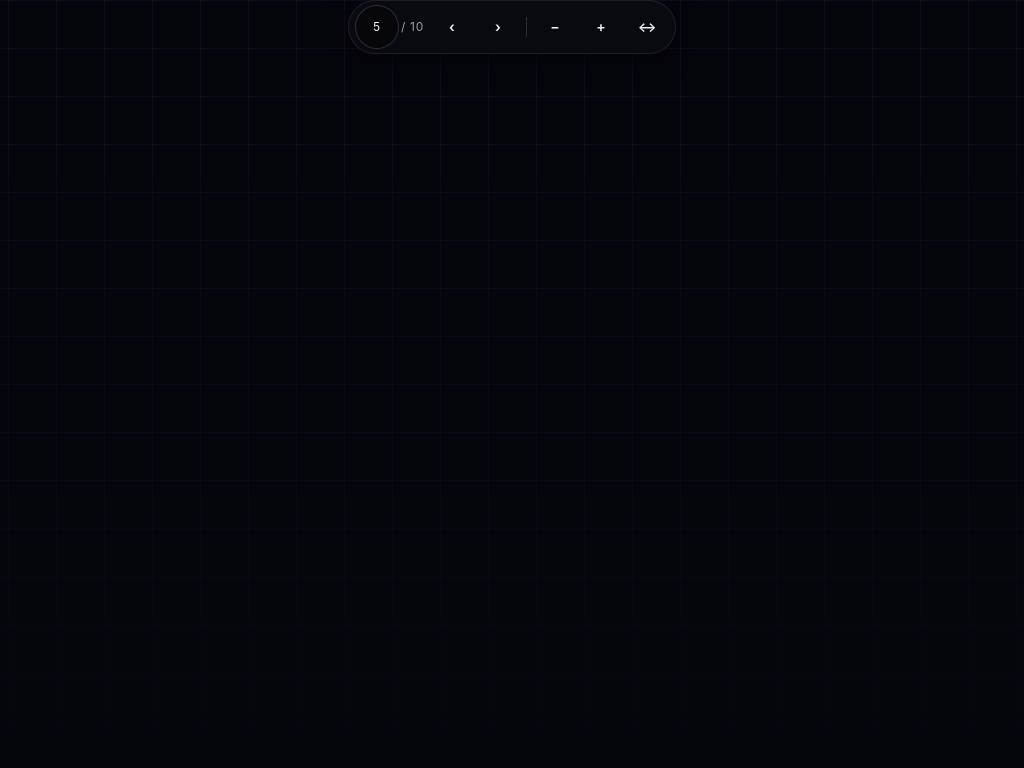
Test: ReaderControls page box and zoom › clamps a typed page to the document and keeps only digits
Replace the text in the field with test id "guide-page-input" with "99" at (377, 27), box [355, 5, 399, 49]
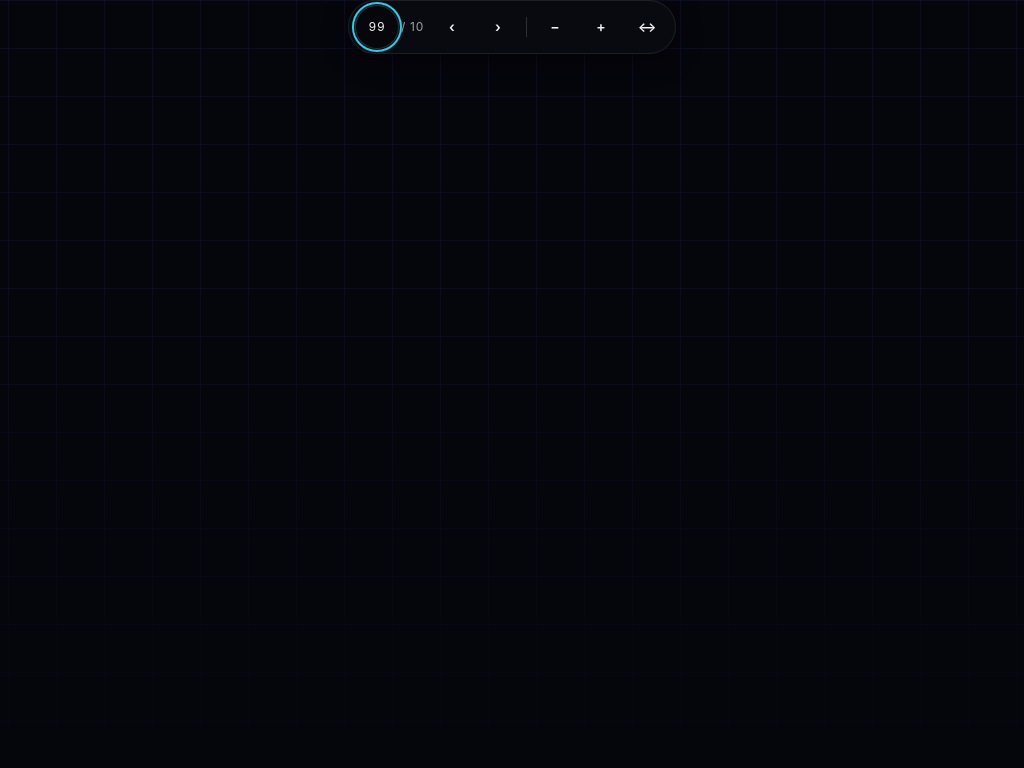
Press Enter in the field with test id "guide-page-input", box [355, 5, 399, 49]
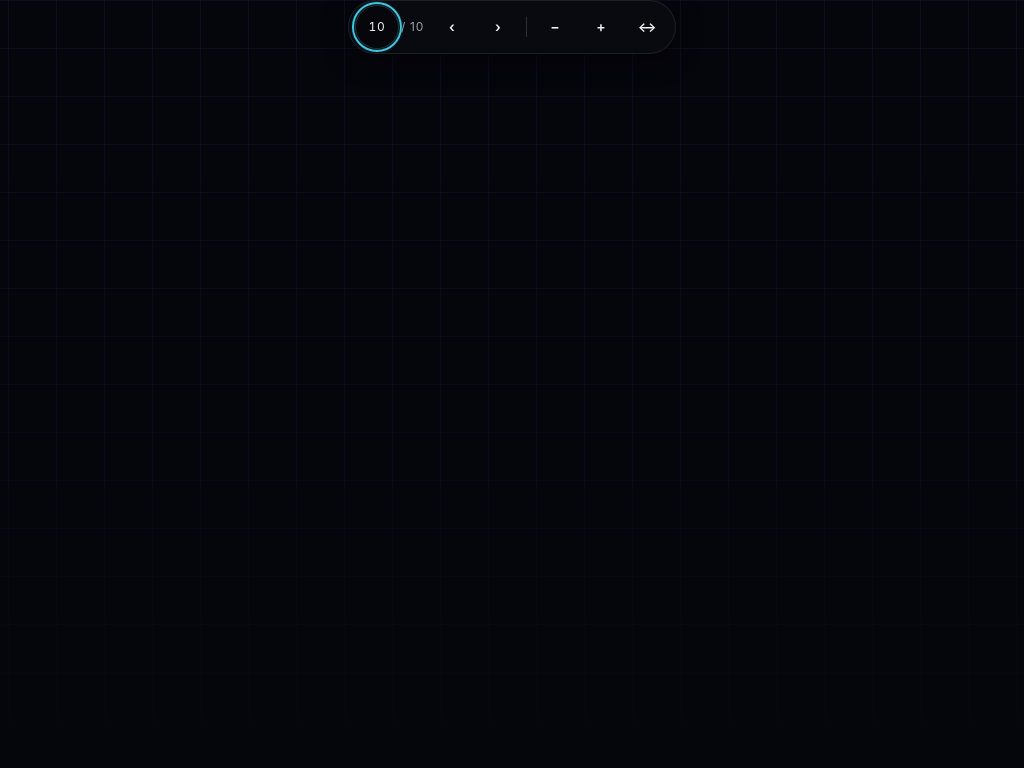
Check: the field with test id "guide-page-input" holds "10"
Replace the text in the field with test id "guide-page-input" with "0" at (377, 27), box [355, 5, 399, 49]
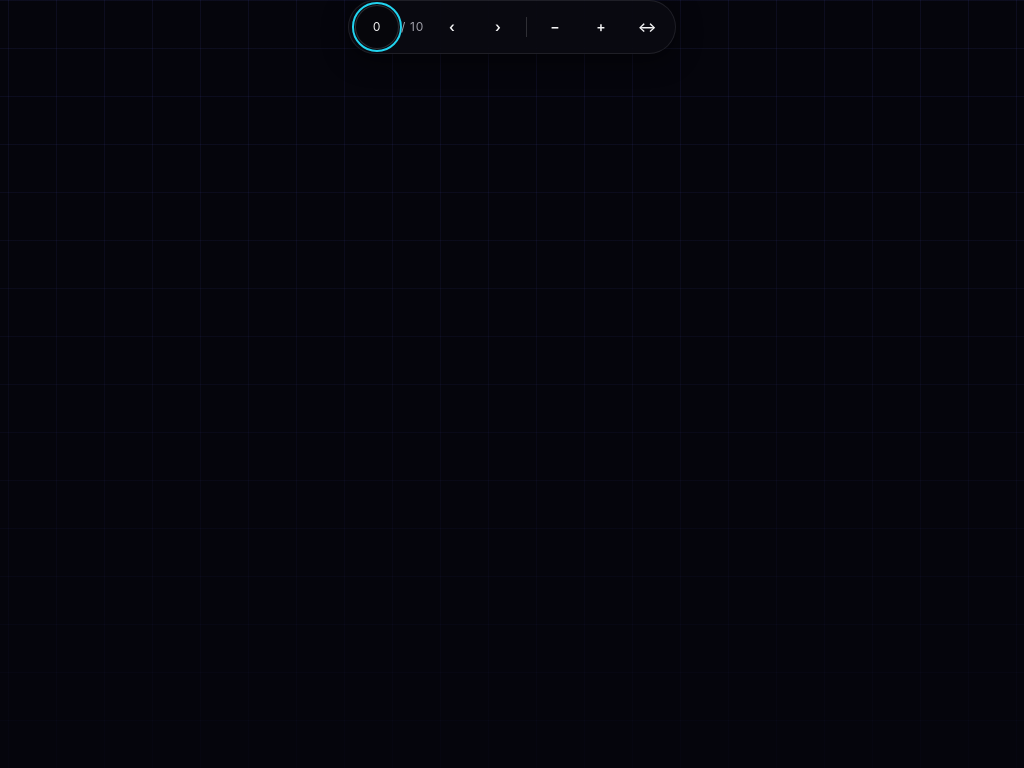
Press Enter in the field with test id "guide-page-input", box [355, 5, 399, 49]
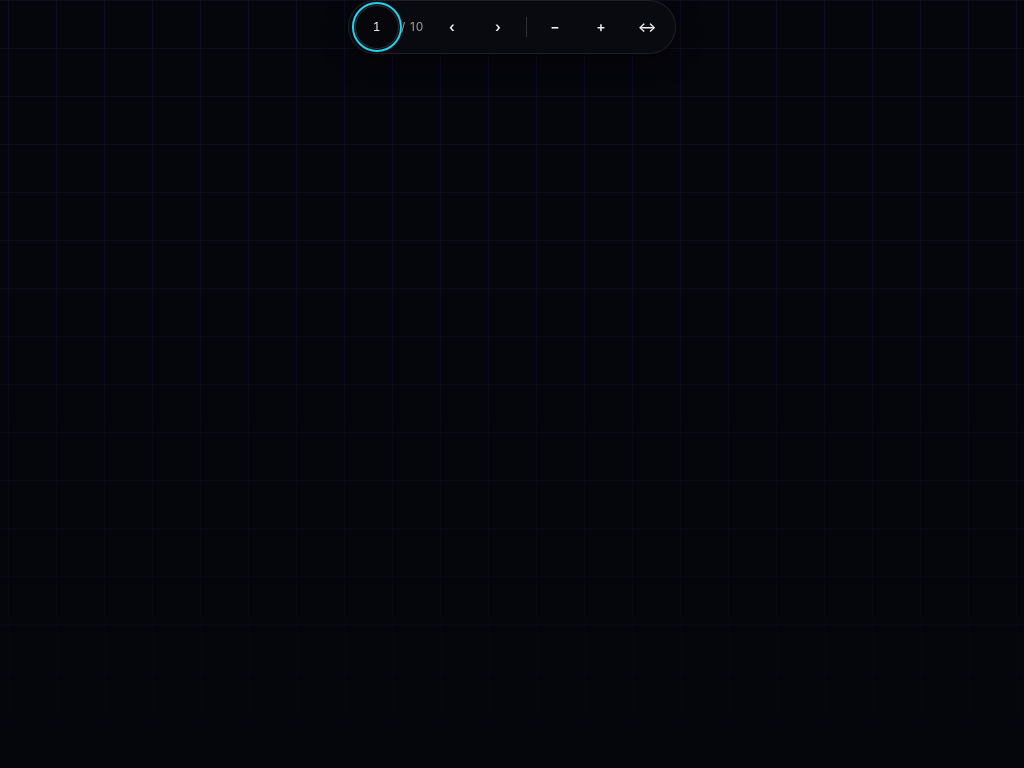
Replace the text in the field with test id "guide-page-input" with "4a" at (377, 27), box [355, 5, 399, 49]
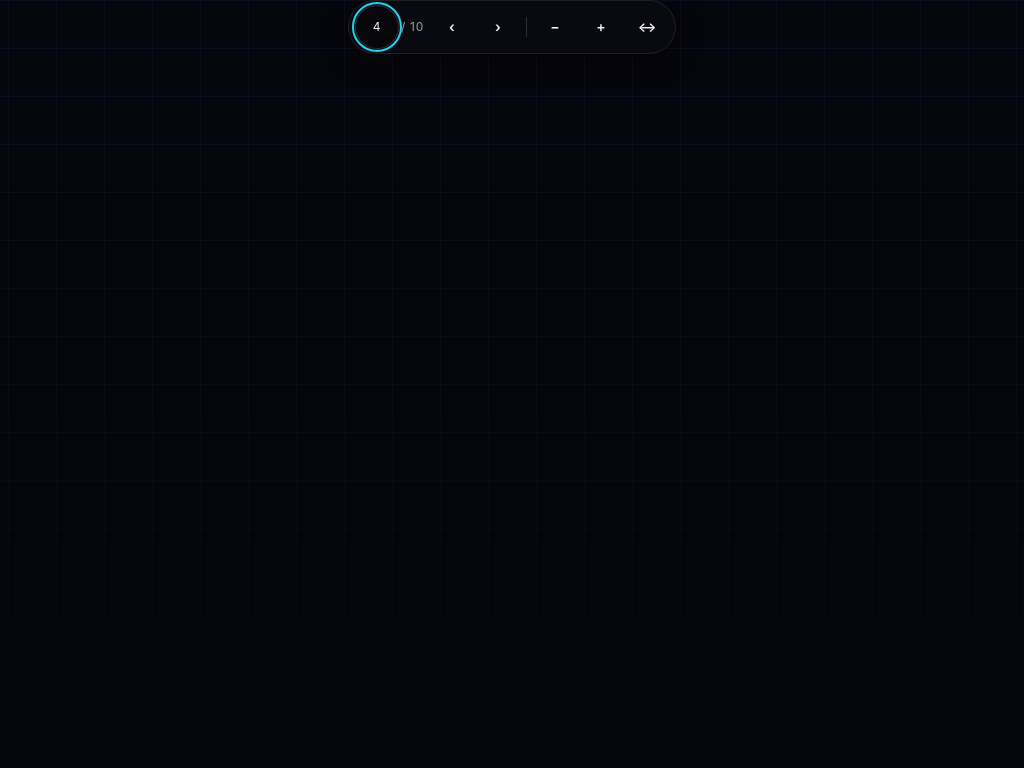
Check: the field with test id "guide-page-input" holds "4", box [355, 5, 399, 49]
